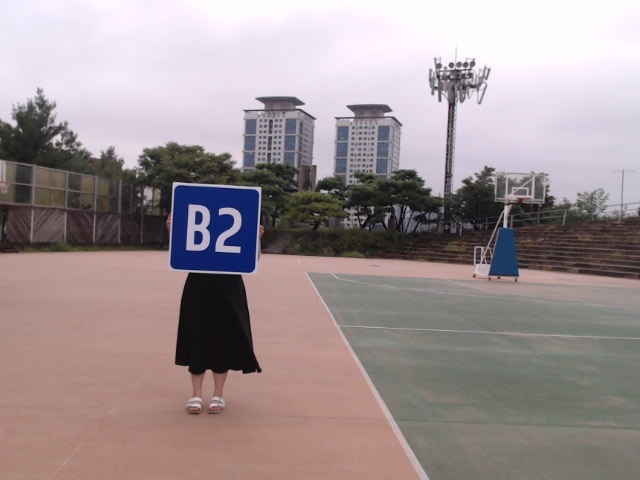delivery_b2: (169, 183, 260, 274)
